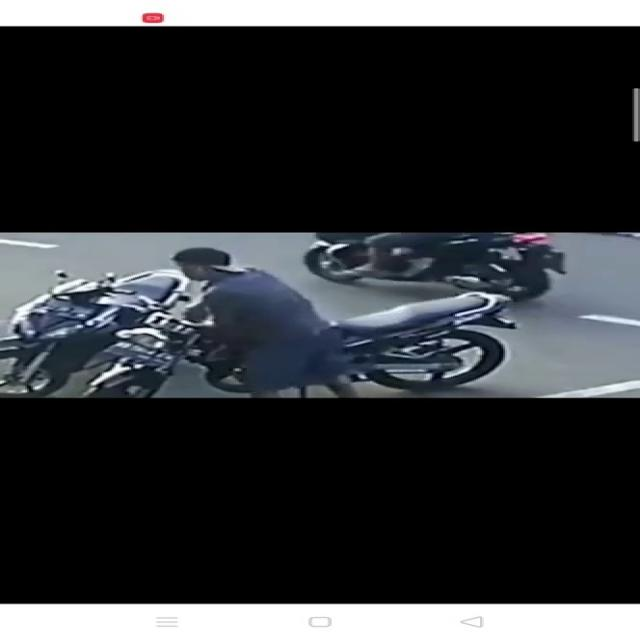pencurian: (104, 244, 388, 398)
